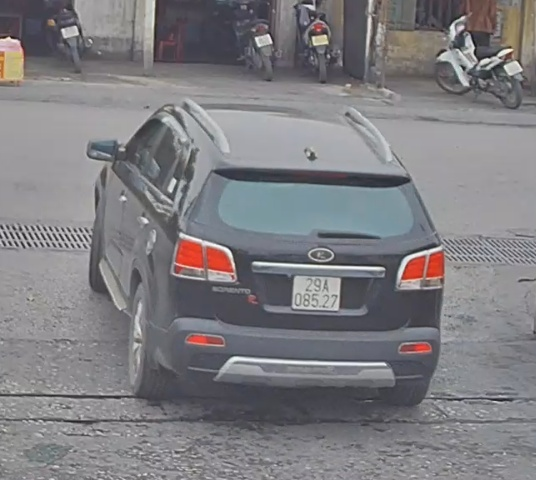vehicle plate: (292, 273, 343, 312)
